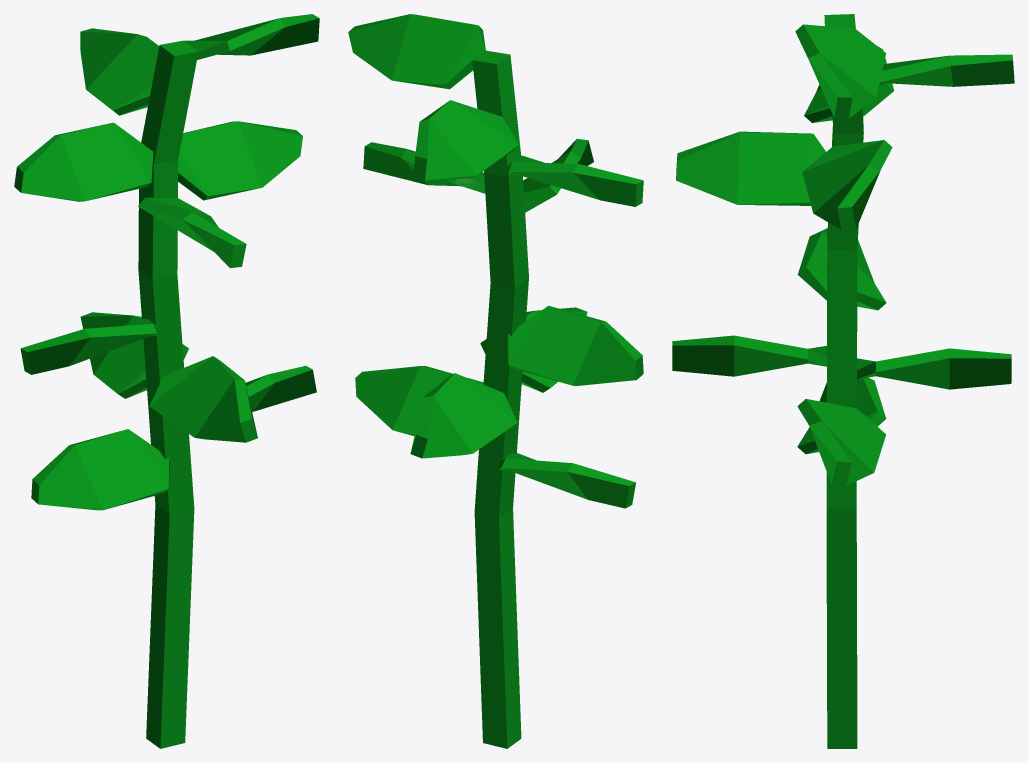
Rendered from Crop.fbx.
3 views of the same model, side by side, from view 1: azimuth 30°, elevation 25°; view 2: azimuth 150°, elevation 25°; view 3: azimuth 270°, elevation 25° (orthographic). The views are drawn at different scales.
Parts seen in each view (by area): view 1: Crop; view 2: Crop; view 3: Crop.
Boxes of the visible parts, x1,y1,x2,y2 form: Crop: (14,14,319,748); Crop: (348,14,643,748); Crop: (672,14,1014,748).
Bounding box in the file's own units: 358 × 816 × 341.
